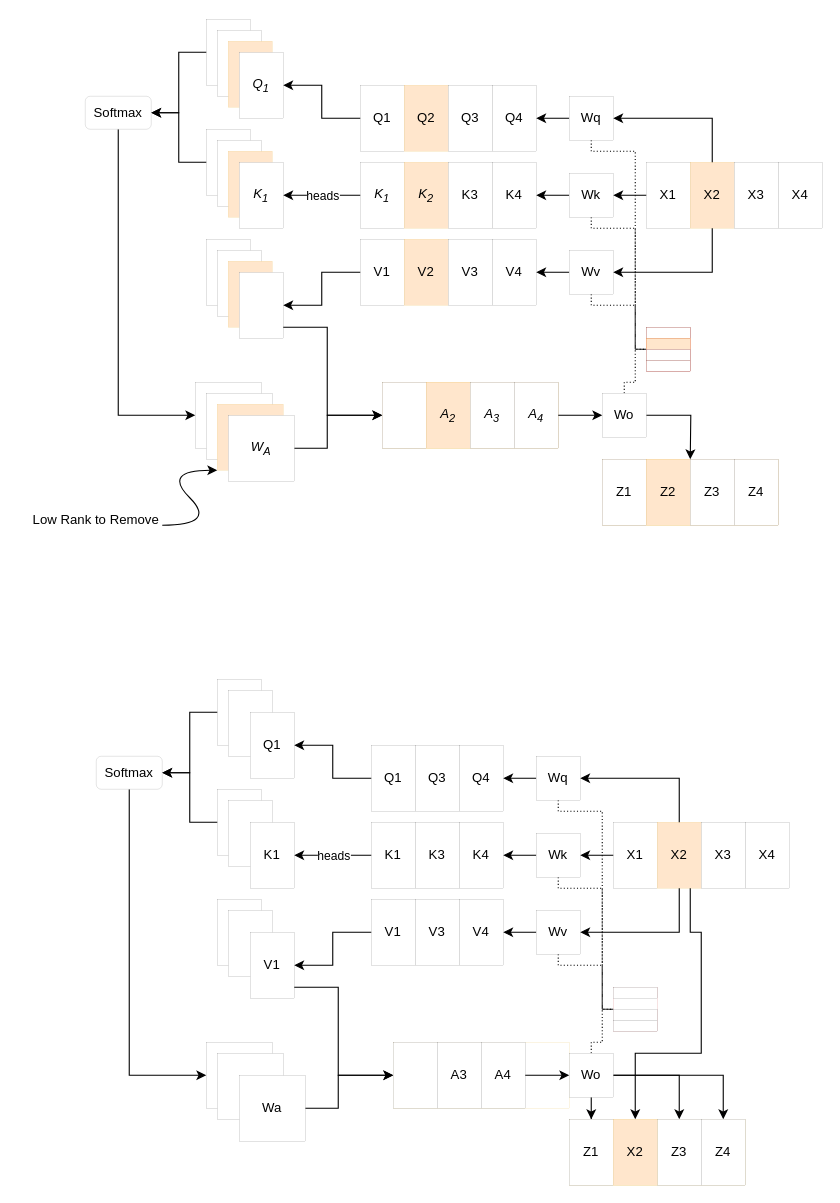
Image size: 840x1203. Some labels were removed from this diagram. Here are the shapes that lost their labels. From the top down, the centre of each, then its label:
At pixel 261 305: "V 1".
At pixel 404 415: "A 1".
At pixel 415 1075: "A1".
